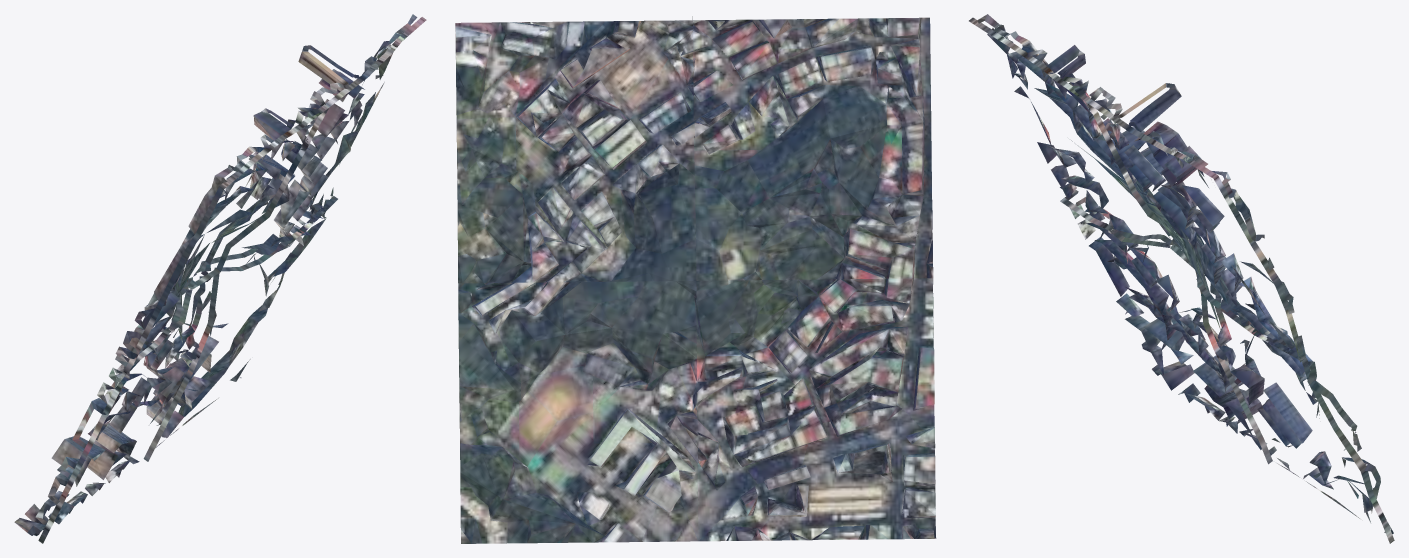
3 views of the same model, side by side, from view 1: azimuth 30°, elevation 25°; view 2: azimuth 150°, elevation 25°; view 3: azimuth 270°, elevation 25° (orthographic). The views are drawn at different scales.
Size of the model in its own units: 623 by 587 by 521.
2 materials, 2 textured.
